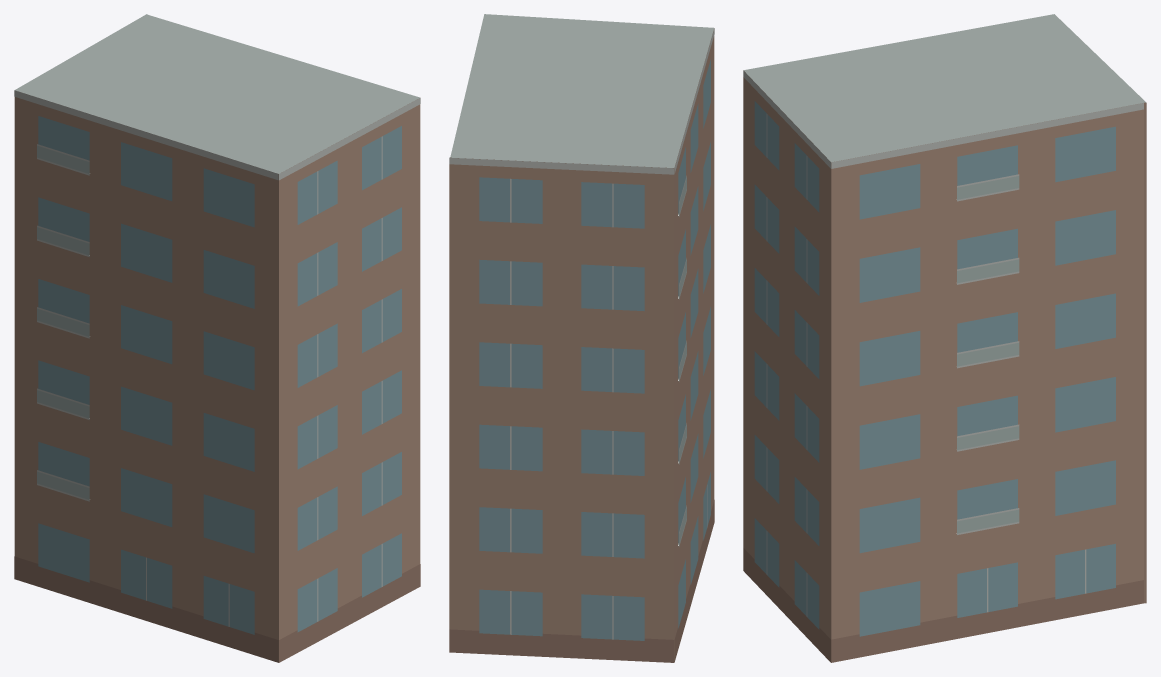
File: survey-upis-32906540.glb
3 renders of one model, left to right at view 1: azimuth 30°, elevation 25°; view 2: azimuth 150°, elevation 25°; view 3: azimuth 270°, elevation 25°, orthographic. The views are drawn at different scales.
Parts seen in each view (by area): view 1: survey-upis-32906540.tmp; view 2: survey-upis-32906540.tmp; view 3: survey-upis-32906540.tmp.
Boxes of the visible parts, x1,y1,x2,y2 form: survey-upis-32906540.tmp: (14, 14, 420, 662); survey-upis-32906540.tmp: (449, 14, 714, 662); survey-upis-32906540.tmp: (743, 14, 1146, 662).
Bounding box in the file's own units: 11.64 × 18.3 × 13.37.
